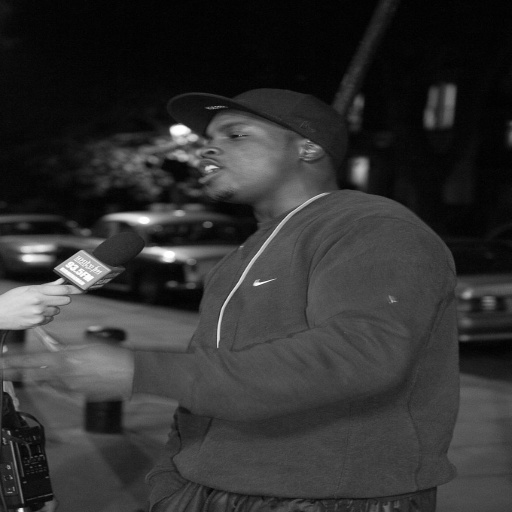hand: (0, 338, 134, 400), (0, 276, 71, 333)
